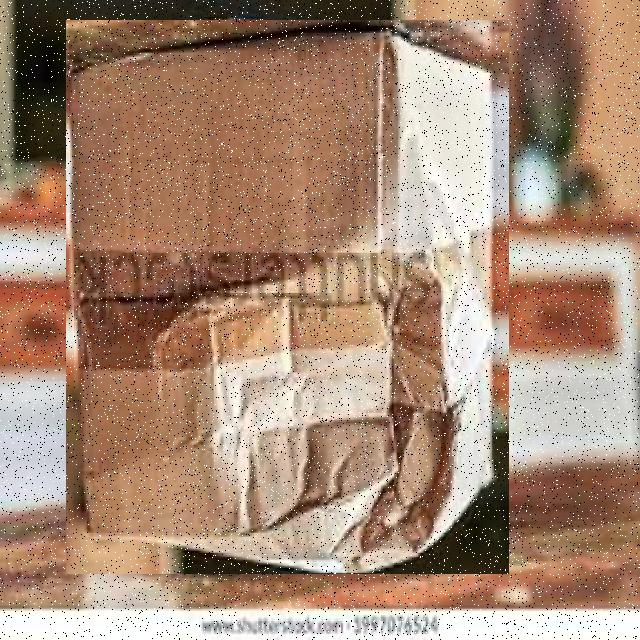defect: (66, 20, 509, 574)
